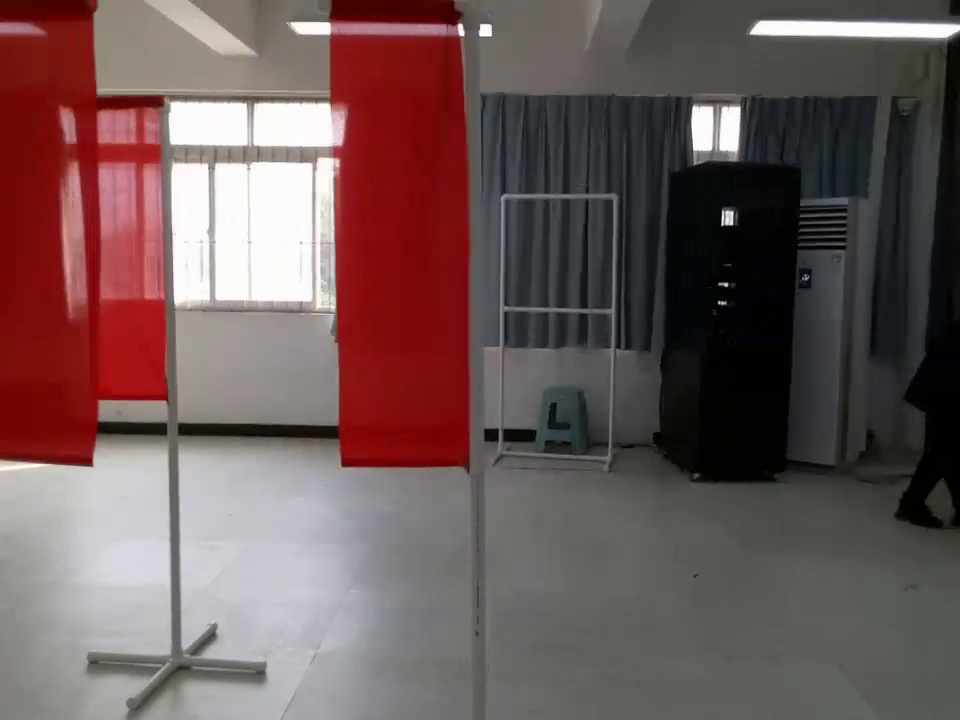qi: (329, 3, 482, 486), (1, 1, 100, 466), (56, 100, 175, 410)
